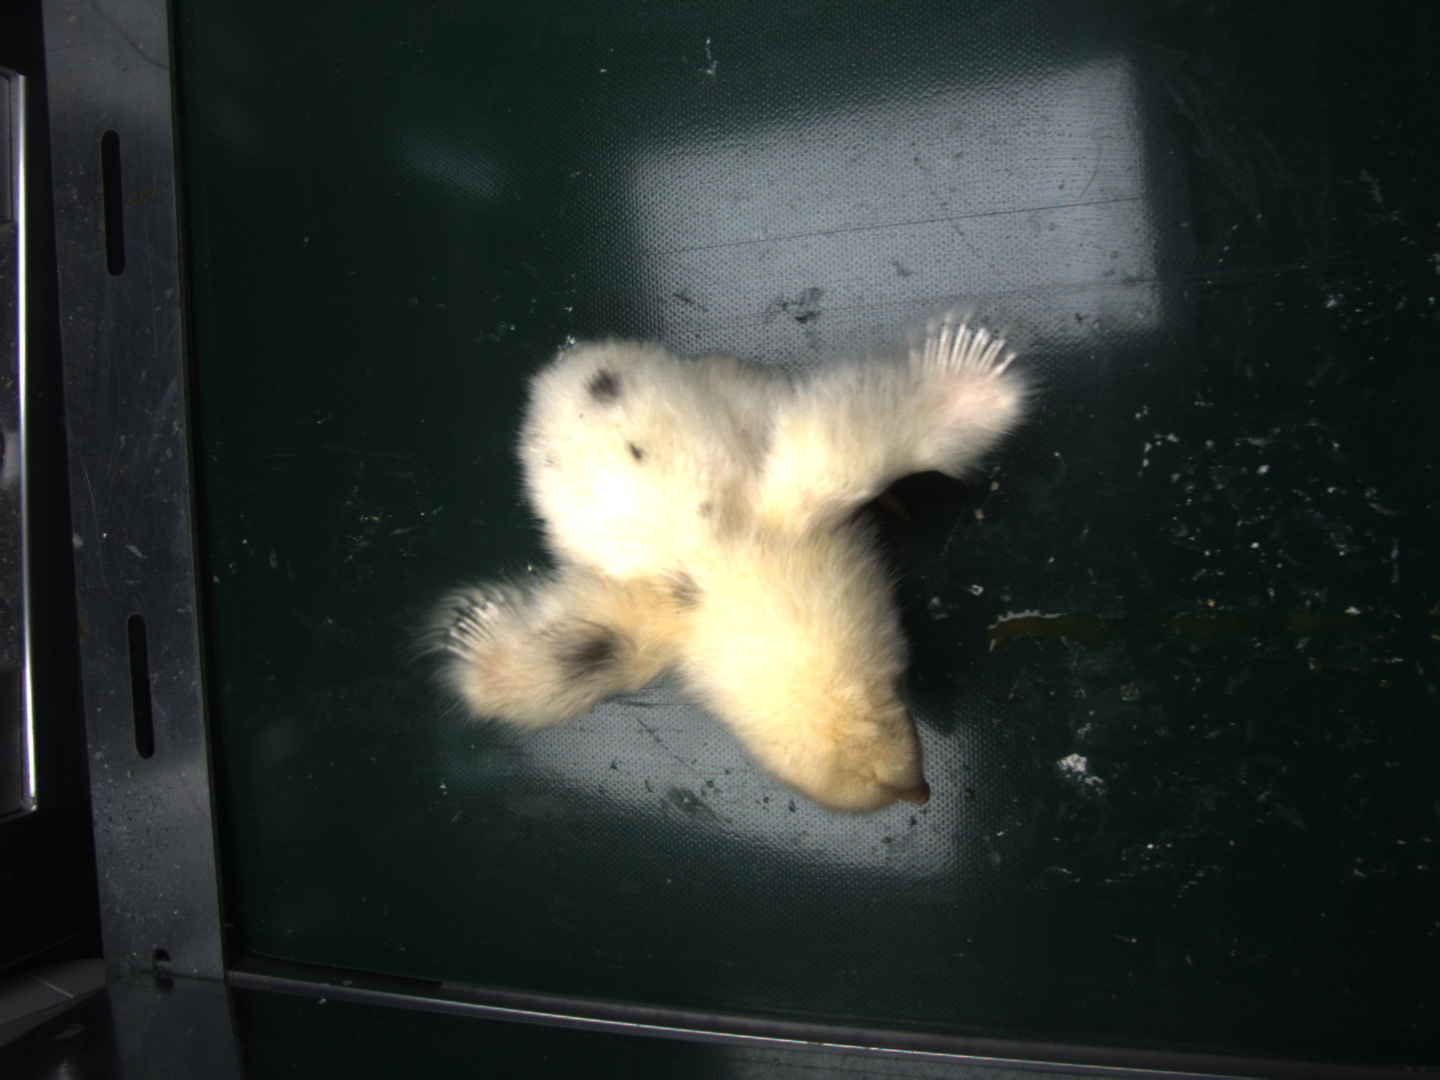male: (923, 322, 1015, 379)
